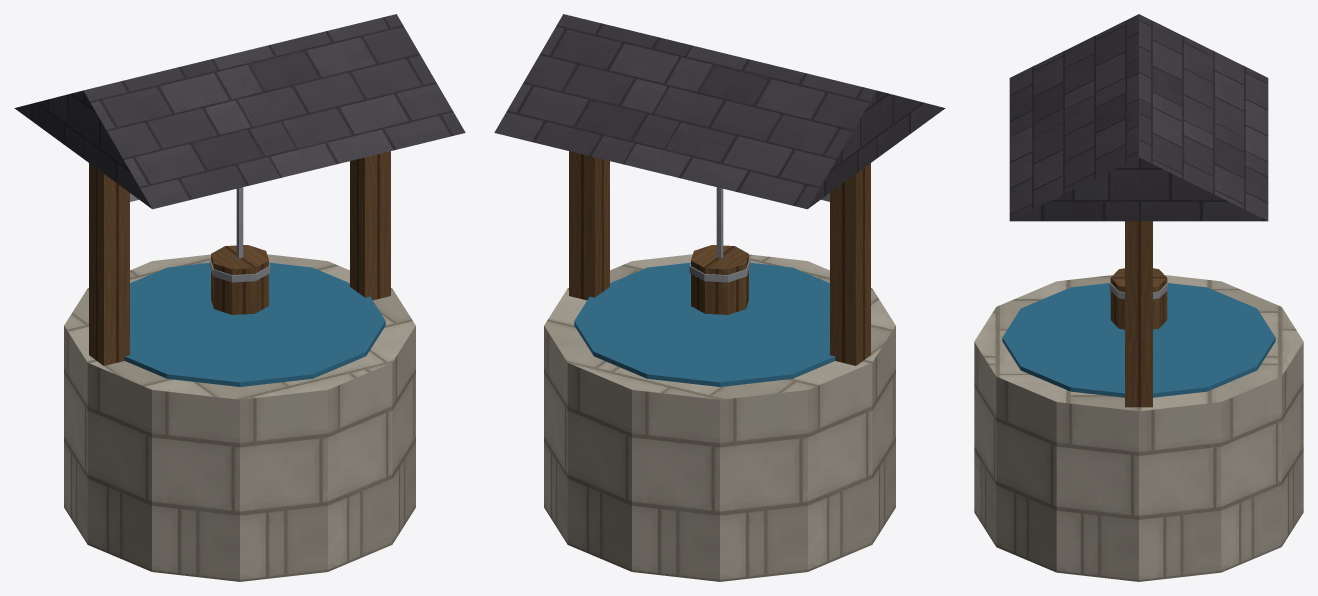
File: well.glb
3 views of the same model, side by side, from view 1: azimuth 30°, elevation 25°; view 2: azimuth 150°, elevation 25°; view 3: azimuth 270°, elevation 25° (orthographic). The views are drawn at different scales.
Visible parts, largest first — view 1: prop.well; view 2: prop.well; view 3: prop.well.
Boxes of the visible parts, <box> form: prop.well: <box>14,14,465,581</box>; prop.well: <box>494,14,945,581</box>; prop.well: <box>974,14,1303,581</box>.
Bounding box in the file's own units: 1.44 × 2 × 1.4.
5 materials, 4 textured.
